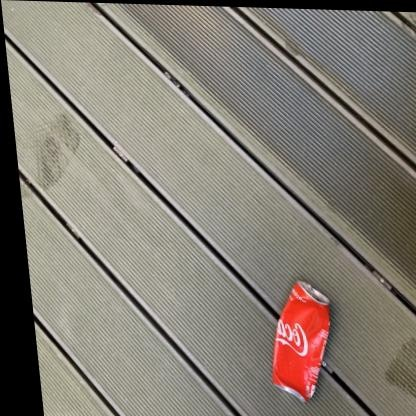trash: (272, 281, 329, 399)
